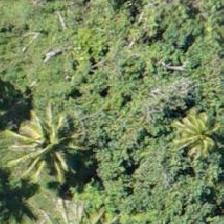coconut_tree: (4, 100, 94, 190), (150, 85, 223, 175)
